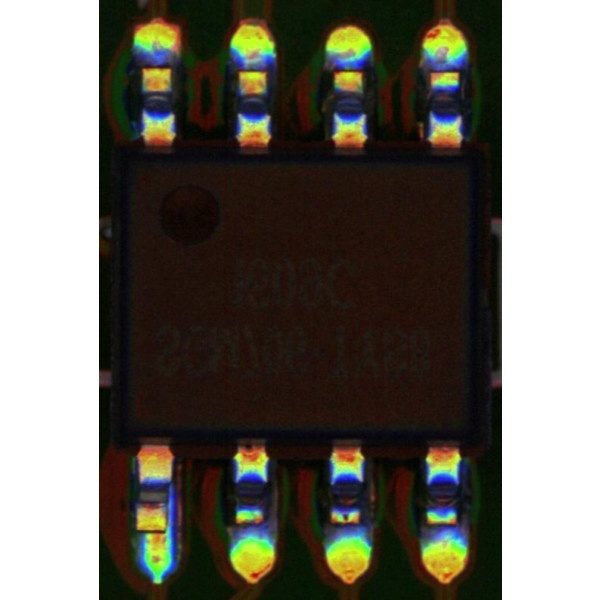Bad_podu: (146, 523, 165, 541)
Bad_qiaojiao: (167, 481, 175, 531)
